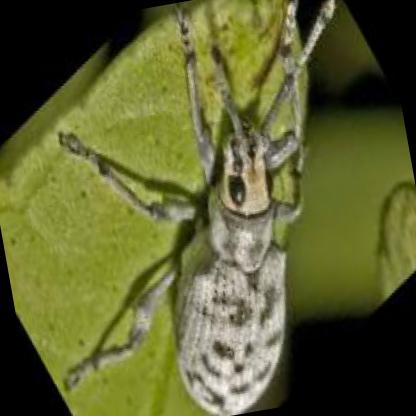ash weevil: (63, 0, 332, 413)
